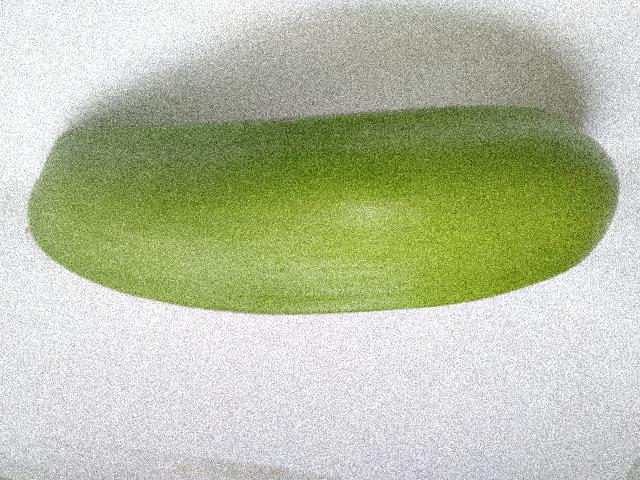freshunripe: (22, 104, 639, 329)
